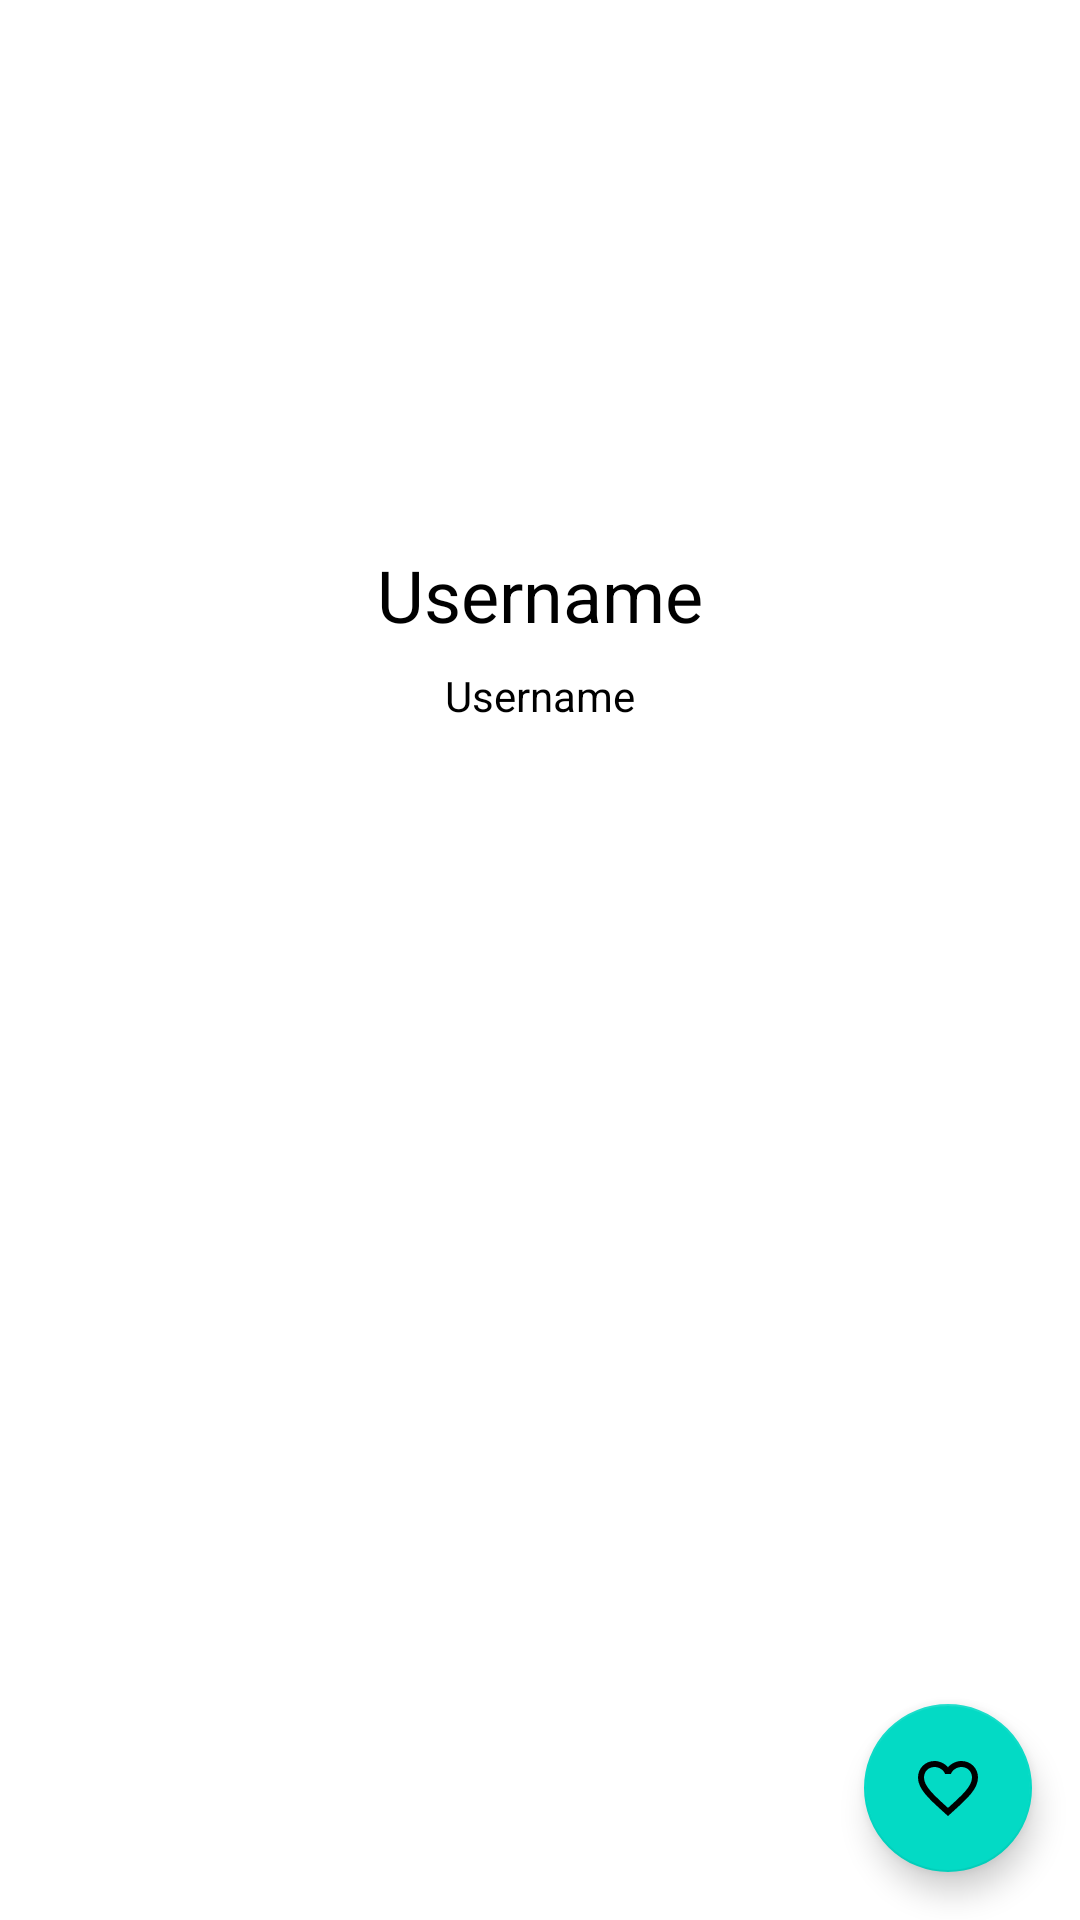

Icon click points for this 1080 x 1920 phone screenshot, format [x,y]:
favorite border: [948,1788]
